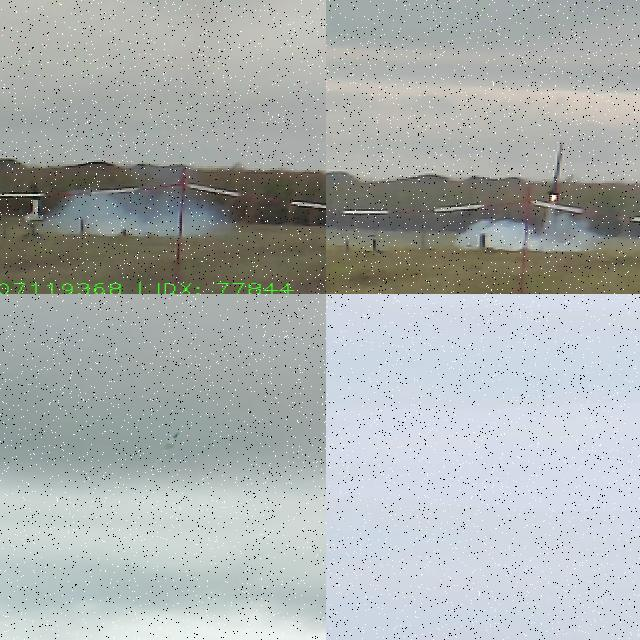Rocket: (547, 140, 564, 196), (23, 182, 45, 222), (162, 432, 180, 450)
